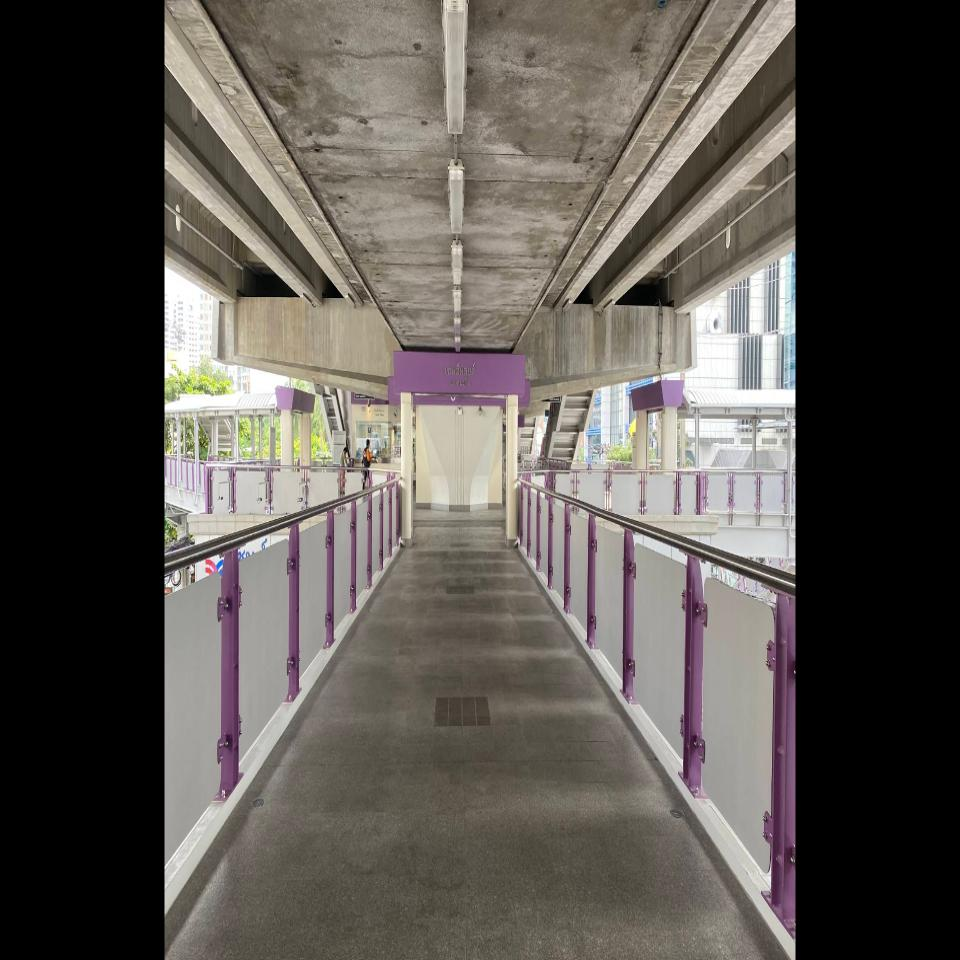Saint Louis: (445, 362, 476, 387)
